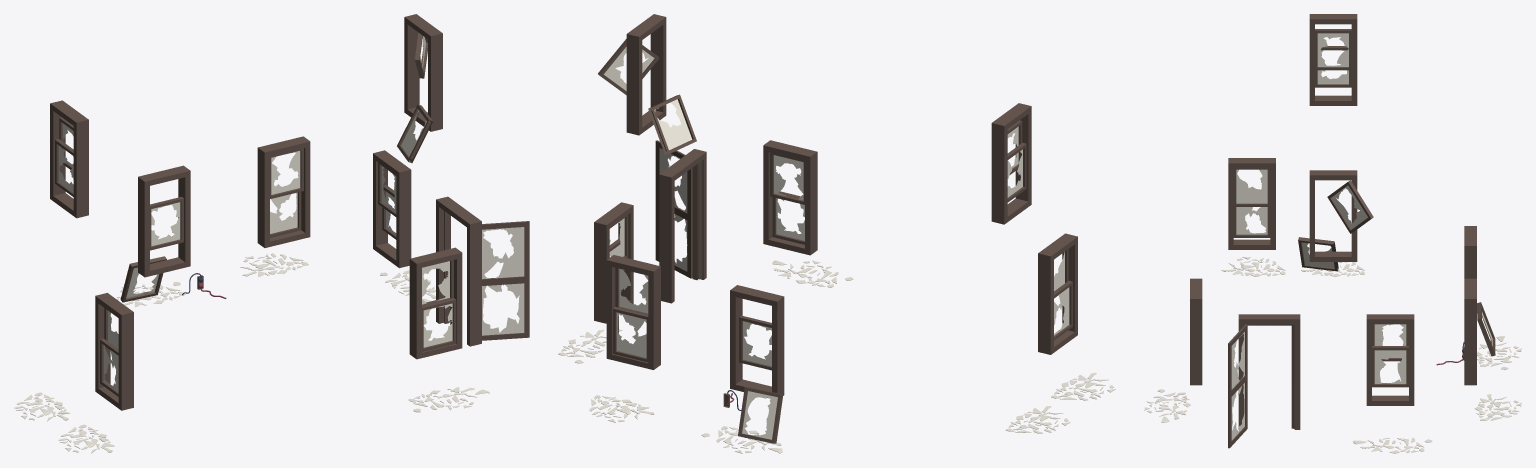
Rendered from Misc.fbx.
The picture shows the model from 3 angles, left to right: view 1: azimuth 30°, elevation 25°; view 2: azimuth 150°, elevation 25°; view 3: azimuth 270°, elevation 25°; orthographic projection. The views are drawn at different scales.
Visible parts, largest first — view 1: Misc; view 2: Misc; view 3: Misc.
Part boxes in pixels (left/top/right/bottom): Misc: left=14, top=14, right=529, bottom=453; Misc: left=558, top=14, right=1115, bottom=453; Misc: left=1144, top=14, right=1521, bottom=453.
Size of the model in its own units: 999 by 613 by 798.
